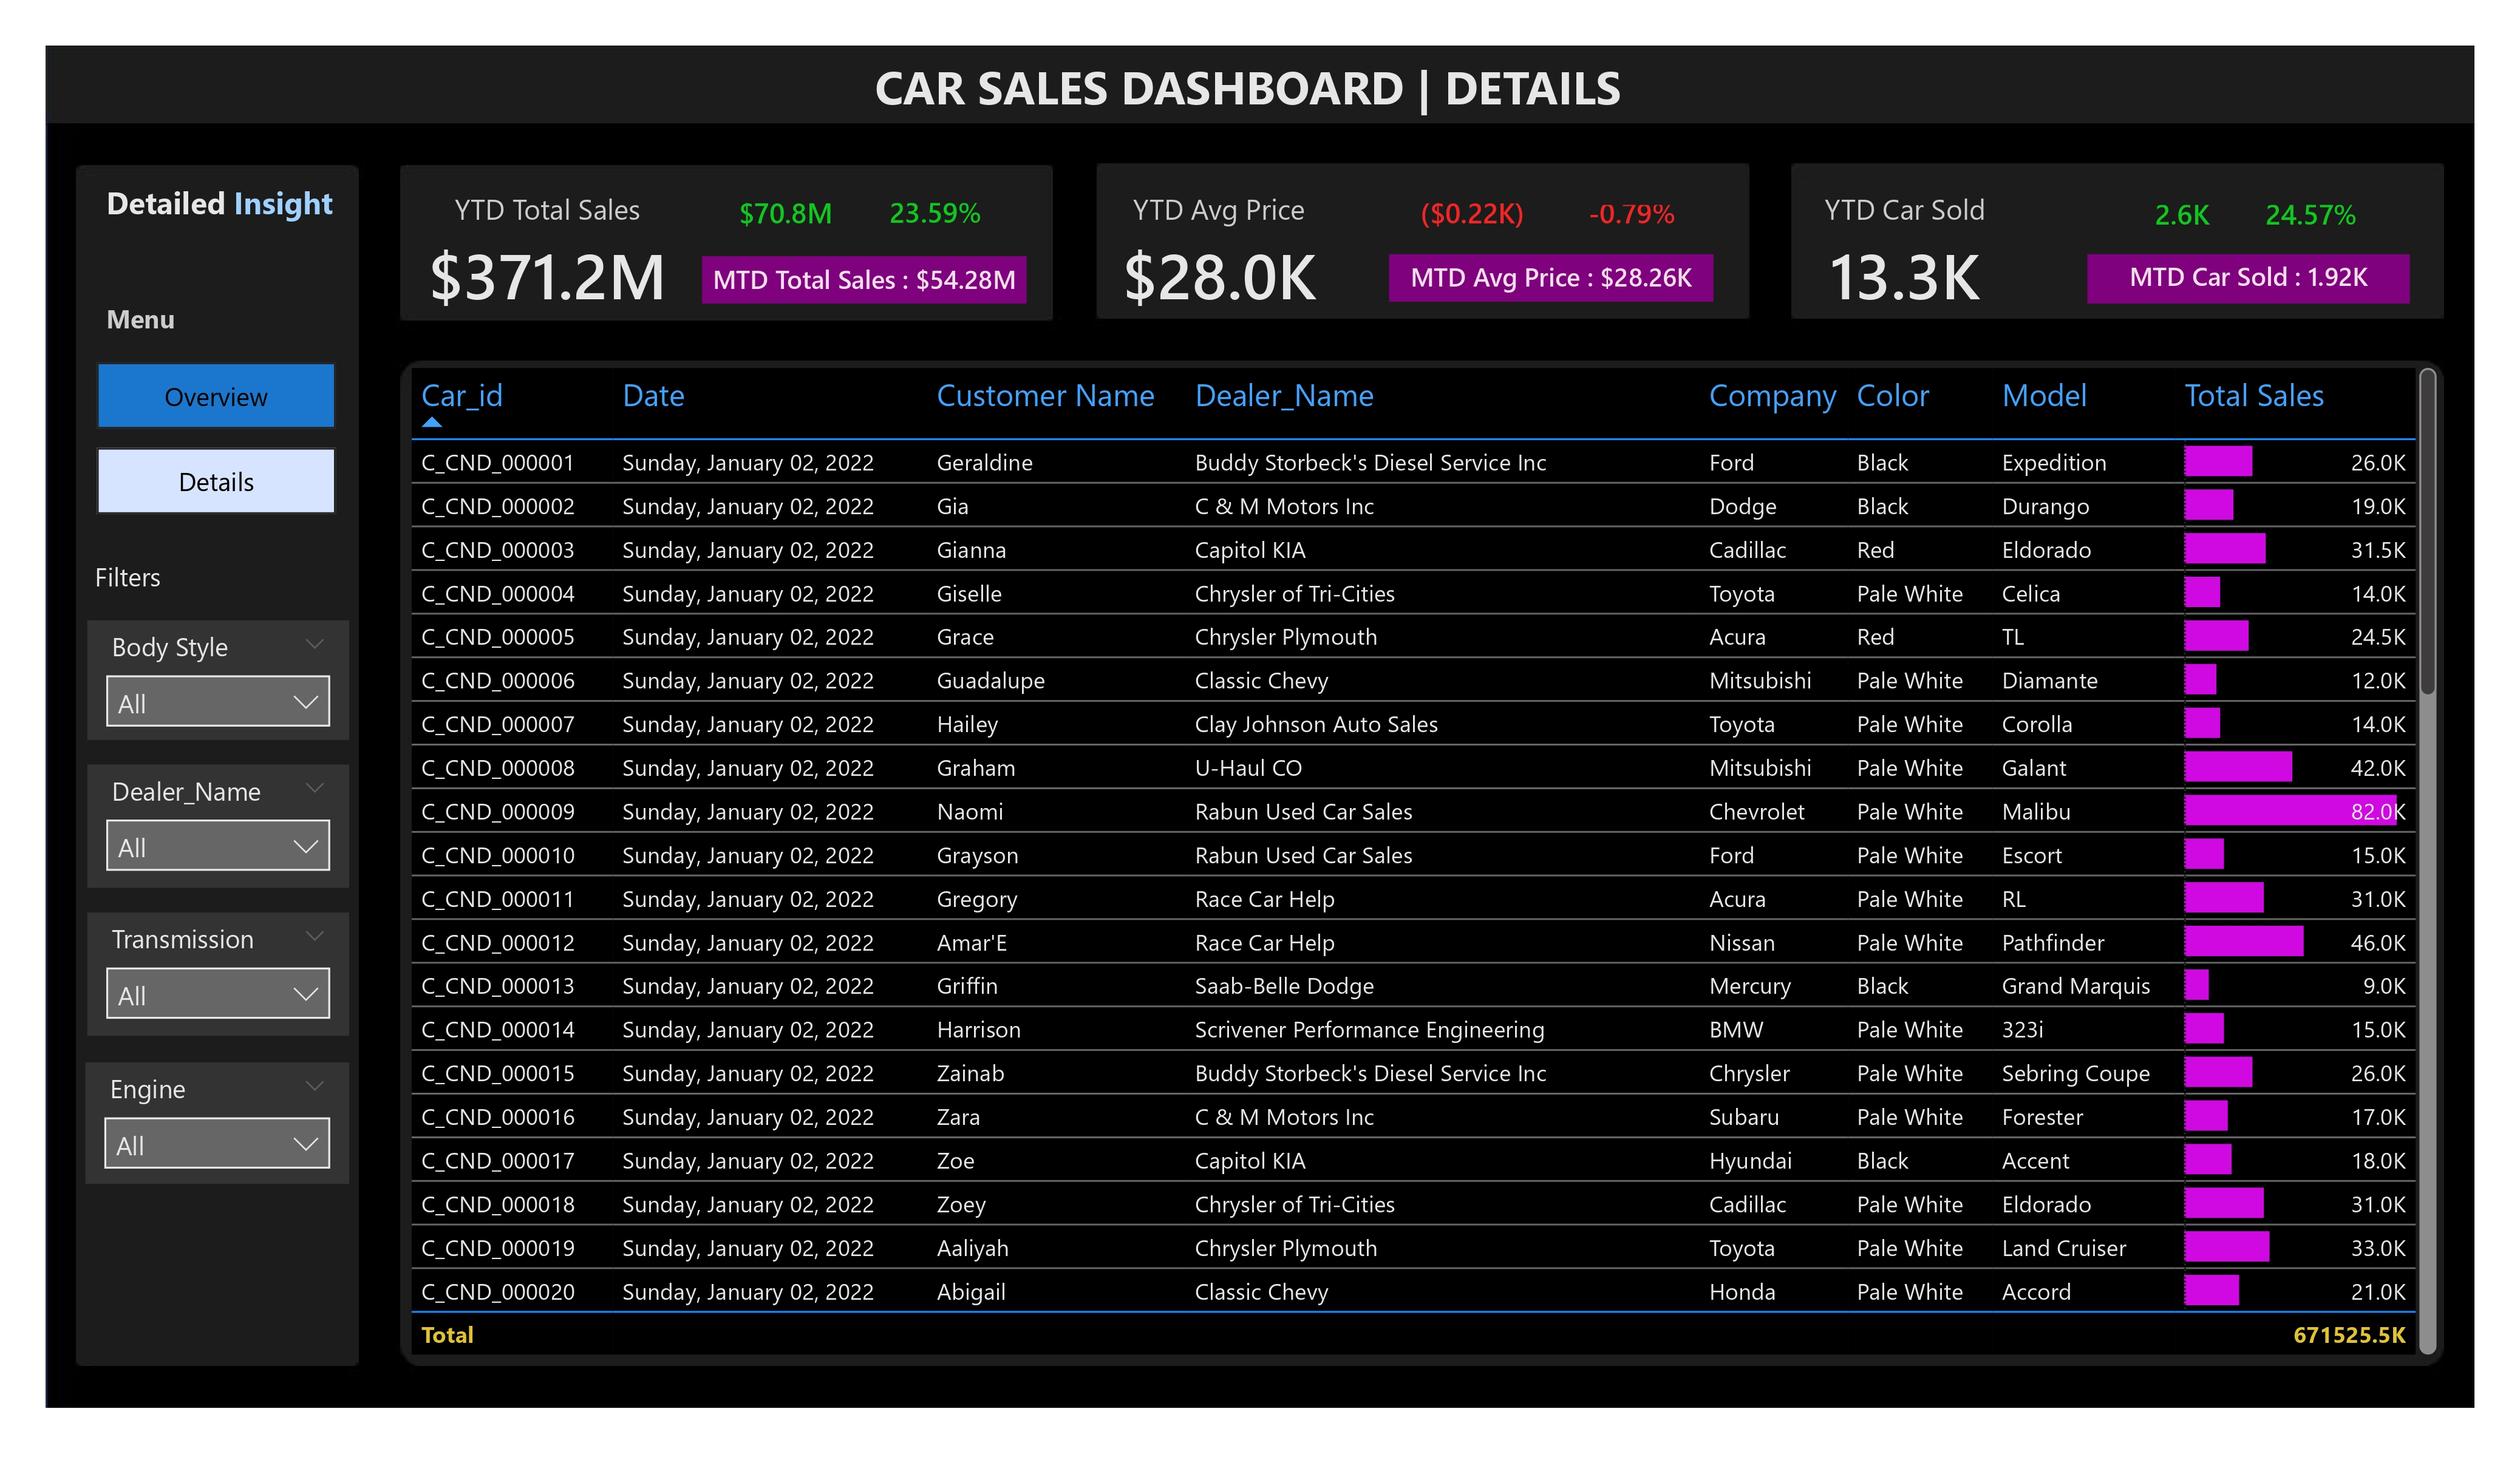

The page's visual inventory and layout, read from the dashboard file:
{"tool":"powerbi","page":{"name":"Details","canvas":[1280,720],"ordinal":1},"visuals":[{"type":"card","title":"YTD Total Sales","fields":{"Values":["car_data.YTD Total Sales"]},"box":[171.2,76.2,186.2,70],"z":0},{"type":"card","fields":{"Values":["car_data.YoY Sales Growth"]},"box":[408.7,75.3,120,24],"z":1000},{"type":"card","fields":{"Values":["car_data.Sales Difference"]},"box":[348.6,75.7,82.9,25.7],"z":2000},{"type":"card","title":"YTD Total Sales","fields":{"Values":["car_data.MTD KPI"]},"box":[345.7,111.4,171.4,24.3],"z":3000},{"type":"card","title":"YTD Avg Price","fields":{"Values":["car_data.YTD Avg Price"]},"box":[528.8,76.2,178.8,70],"z":4000},{"type":"card","fields":{"Values":["car_data.Avg Price Diff"]},"box":[711.4,75.7,81.4,25.7],"z":5000},{"type":"card","fields":{"Values":["car_data.YoY Avg Price Growth"]},"box":[776,75.3,120,22.7],"z":6000},{"type":"card","title":"YTD Total Sales","fields":{"Values":["car_data.MTD Avg Price KPI"]},"box":[708,110,171,25],"z":7000},{"type":"card","title":"YTD Car Sold","fields":{"Values":["car_data.YTD Car Sold"]},"box":[896,76,168,70],"z":8000},{"type":"card","fields":{"Values":["car_data.Car Sold Diff"]},"box":[1091.4,75.7,70,24.3],"z":9000},{"type":"card","fields":{"Values":["car_data.YoY Car Sold Growth"]},"box":[1134,76,120,24],"z":10000},{"type":"card","title":"YTD Total Sales","fields":{"Values":["car_data.MTD Car Sold KPI"]},"box":[1075.7,110,170,25.7],"z":11000},{"type":"textbox","box":[431.7,0,451.7,53.3],"z":12000},{"type":"slicer","fields":{"Values":["car_data.Body Style"]},"box":[21.8,302.7,138.2,63.6],"z":13000},{"type":"slicer","fields":{"Values":["car_data.Dealer_Name"]},"box":[21.8,379.1,138.2,64.5],"z":14000},{"type":"slicer","fields":{"Values":["car_data.Transmission"]},"box":[21.8,457.3,138.2,64.5],"z":15000},{"type":"slicer","fields":{"Values":["car_data.Engine"]},"box":[21.4,535.7,138.6,64.3],"z":16000},{"type":"textbox","box":[21.4,265.7,115.7,27.1],"z":17000},{"type":"tableEx","fields":{"Values":["car_data.Car_id","car_data.Date","car_data.Customer Name","car_data.Dealer_Name","car_data.Company","car_data.Color","car_data.Model","car_data.Price ($)"]},"box":[186.7,165,1078.3,530],"z":18000},{"type":"pageNavigator","box":[26.7,166.7,126.7,80],"z":19000},{"type":"textbox","box":[27.1,67.1,165.7,38.6],"z":20000},{"type":"textbox","box":[27.1,130,138.6,37.1],"z":21000}]}

Visuals, with their boxes on the page's 1280x720 design canvas (x1, y1, x2, y2). These are canvas units, not pixel positions in the 2520x1457 screenshot, which may show the page scaled, cropped or inside an application window:
"YTD Total Sales" card: [171, 76, 357, 146]
card - car_data.YoY Sales Growth: [409, 75, 529, 99]
card - car_data.Sales Difference: [349, 76, 432, 101]
"YTD Total Sales" card: [346, 111, 517, 136]
"YTD Avg Price" card: [529, 76, 708, 146]
card - car_data.Avg Price Diff: [711, 76, 793, 101]
card - car_data.YoY Avg Price Growth: [776, 75, 896, 98]
"YTD Total Sales" card: [708, 110, 879, 135]
"YTD Car Sold" card: [896, 76, 1064, 146]
card - car_data.Car Sold Diff: [1091, 76, 1161, 100]
card - car_data.YoY Car Sold Growth: [1134, 76, 1254, 100]
"YTD Total Sales" card: [1076, 110, 1246, 136]
textbox: [432, 0, 883, 53]
slicer - car_data.Body Style: [22, 303, 160, 366]
slicer - car_data.Dealer_Name: [22, 379, 160, 444]
slicer - car_data.Transmission: [22, 457, 160, 522]
slicer - car_data.Engine: [21, 536, 160, 600]
textbox: [21, 266, 137, 293]
tableEx - car_data.Car_id x car_data.Date: [187, 165, 1265, 695]
pageNavigator: [27, 167, 153, 247]
textbox: [27, 67, 193, 106]
textbox: [27, 130, 166, 167]
